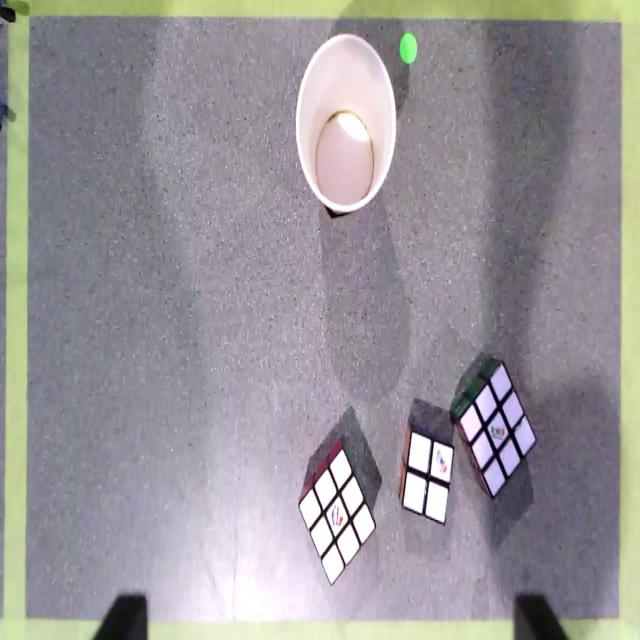cube2-white: (402, 431, 453, 524)
cube3-white: (299, 446, 376, 585), (459, 362, 537, 495)
